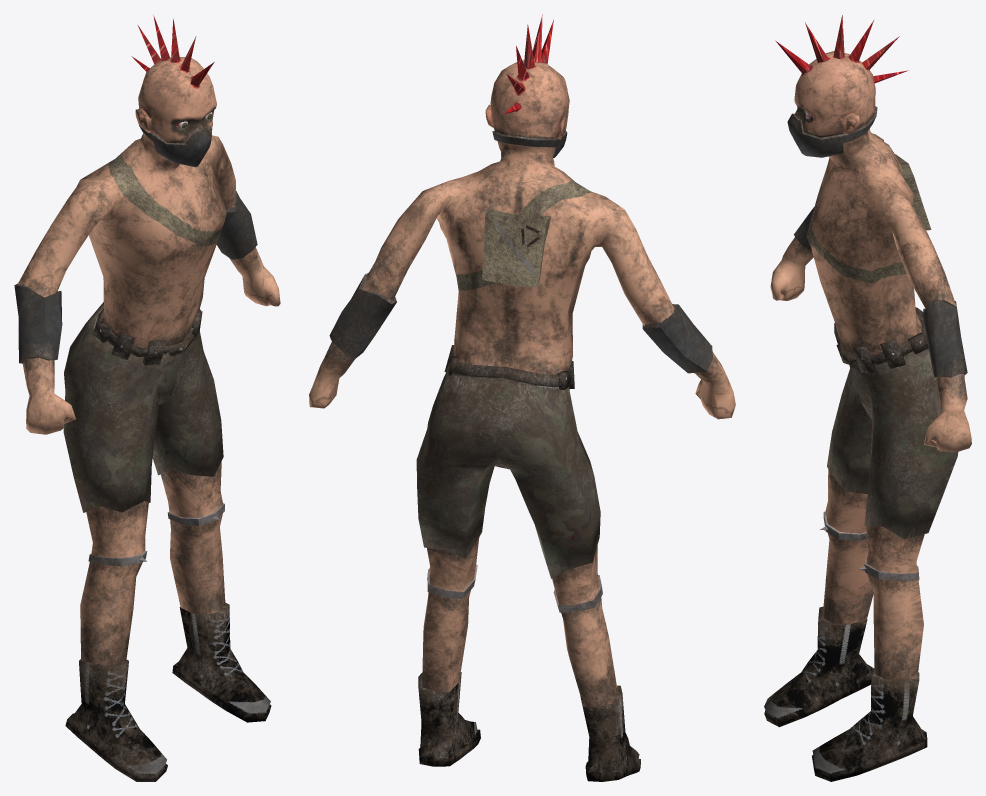
The model's file is Anim_arma_c_npc2.0036.obj.
3 renders of one model, left to right at view 1: azimuth 30°, elevation 25°; view 2: azimuth 150°, elevation 25°; view 3: azimuth 270°, elevation 25°, orthographic. The views are drawn at different scales.
Parts seen in each view (by area): view 1: polySurface1; view 2: polySurface1; view 3: polySurface1.
Part boxes in pixels (box(x1,y1,x2,y2)): polySurface1: box(14, 15, 280, 781); polySurface1: box(309, 14, 735, 781); polySurface1: box(764, 15, 971, 781).
Bounding box in the file's own units: 4.89 × 10.41 × 2.67.
